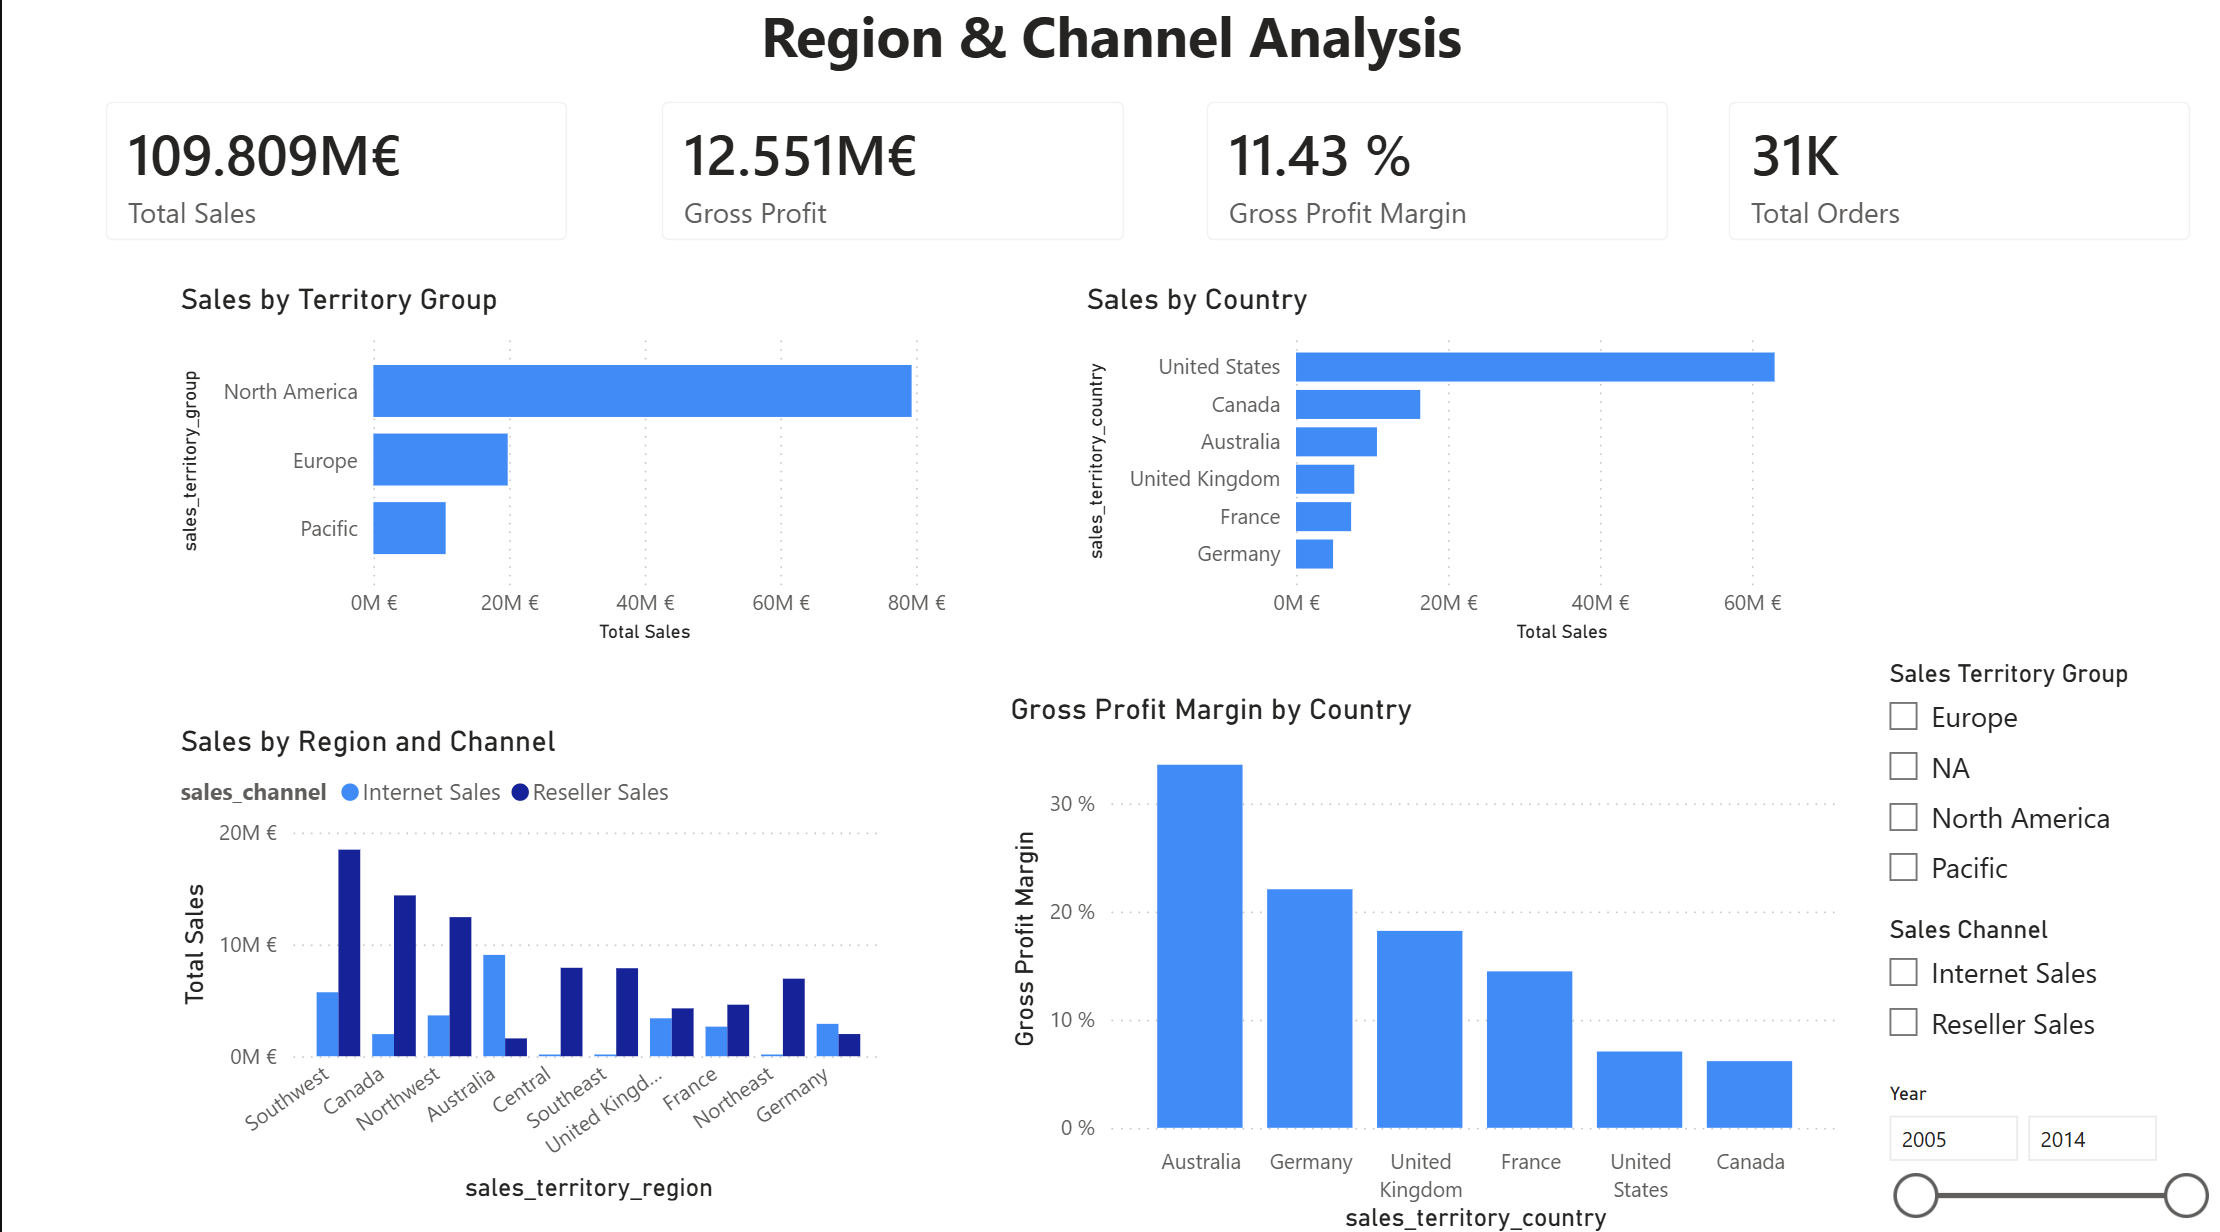

What the dashboard file says about the page in this screenshot:
{"tool":"powerbi","page":{"name":"Region & Channel Analysis","canvas":[1280,720],"ordinal":2},"visuals":[{"type":"textbox","box":[398.2,0,483.6,48.2],"z":0},{"type":"slicer","fields":{"Values":["vw_dim_date.calendar_year"]},"box":[1074.7,625.5,205.3,95.1],"z":1000},{"type":"slicer","fields":{"Values":["vw_fact_sales.sales_channel"]},"box":[1074.7,529.1,206.7,96.4],"z":2000},{"type":"slicer","fields":{"Values":["vw_dim_sales_territory.sales_territory_group"]},"box":[1074.7,381.7,206.7,147.4],"z":3000},{"type":"cardVisual","fields":{"Data":["vw_fact_sales.Total Sales"]},"box":[44.1,48.2,300.4,114.4],"z":4000},{"type":"cardVisual","fields":{"Data":["vw_fact_sales.Gross Profit"]},"box":[363.7,48.2,300.4,114.4],"z":5000},{"type":"cardVisual","fields":{"Data":["vw_fact_sales.Gross Profit Margin"]},"box":[677.9,48.2,300.4,114.4],"z":6000},{"type":"cardVisual","fields":{"Data":["vw_fact_sales.Total Orders"]},"box":[978.3,48.2,300.4,114.4],"z":7000},{"type":"clusteredBarChart","title":"Sales by Territory Group","fields":{"Category":["vw_dim_sales_territory.sales_territory_group"],"Y":["vw_fact_sales.Total Sales"]},"box":[99.2,169.5,450.5,212.2],"z":8000},{"type":"clusteredBarChart","title":"Sales by Country","fields":{"Category":["vw_dim_sales_territory.sales_territory_country"],"Y":["vw_fact_sales.Total Sales"]},"box":[621.4,169.5,453.3,212.2],"z":9000},{"type":"clusteredColumnChart","title":"Sales by Region and Channel","fields":{"Category":["vw_dim_sales_territory.sales_territory_region"],"Y":["vw_fact_sales.Total Sales"],"Series":["vw_fact_sales.sales_channel"]},"box":[99.2,424.4,414.7,279.7],"z":10000},{"type":"clusteredColumnChart","title":"Gross Profit Margin by Country","fields":{"Category":["vw_dim_sales_territory.sales_territory_country"],"Y":["vw_fact_sales.Gross Profit Margin"]},"box":[577.3,405.1,486.4,315.5],"z":11000}]}

Visuals, with their boxes in screenshot pixels (x1, y1, x2, y2), scaled from the page's 1280x720 canvas onto the 2220x1232 screenshot:
textbox: pyautogui.locateOnScreen(691, 0, 1529, 82)
slicer - vw_dim_date.calendar_year: pyautogui.locateOnScreen(1864, 1070, 2219, 1231)
slicer - vw_fact_sales.sales_channel: pyautogui.locateOnScreen(1864, 905, 2219, 1070)
slicer - vw_dim_sales_territory.sales_territory_group: pyautogui.locateOnScreen(1864, 653, 2219, 905)
cardVisual - vw_fact_sales.Total Sales: pyautogui.locateOnScreen(76, 82, 597, 278)
cardVisual - vw_fact_sales.Gross Profit: pyautogui.locateOnScreen(631, 82, 1152, 278)
cardVisual - vw_fact_sales.Gross Profit Margin: pyautogui.locateOnScreen(1176, 82, 1697, 278)
cardVisual - vw_fact_sales.Total Orders: pyautogui.locateOnScreen(1697, 82, 2218, 278)
"Sales by Territory Group" clusteredBarChart: pyautogui.locateOnScreen(172, 290, 953, 653)
"Sales by Country" clusteredBarChart: pyautogui.locateOnScreen(1078, 290, 1864, 653)
"Sales by Region and Channel" clusteredColumnChart: pyautogui.locateOnScreen(172, 726, 891, 1205)
"Gross Profit Margin by Country" clusteredColumnChart: pyautogui.locateOnScreen(1001, 693, 1845, 1231)
